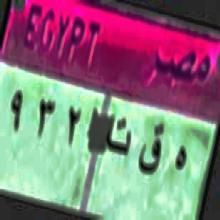2: (65, 97, 82, 154)
3: (35, 91, 58, 149)
9: (9, 84, 27, 145)
haa: (173, 130, 187, 189)
qaaf: (137, 120, 166, 187)
taa: (106, 114, 135, 160)
